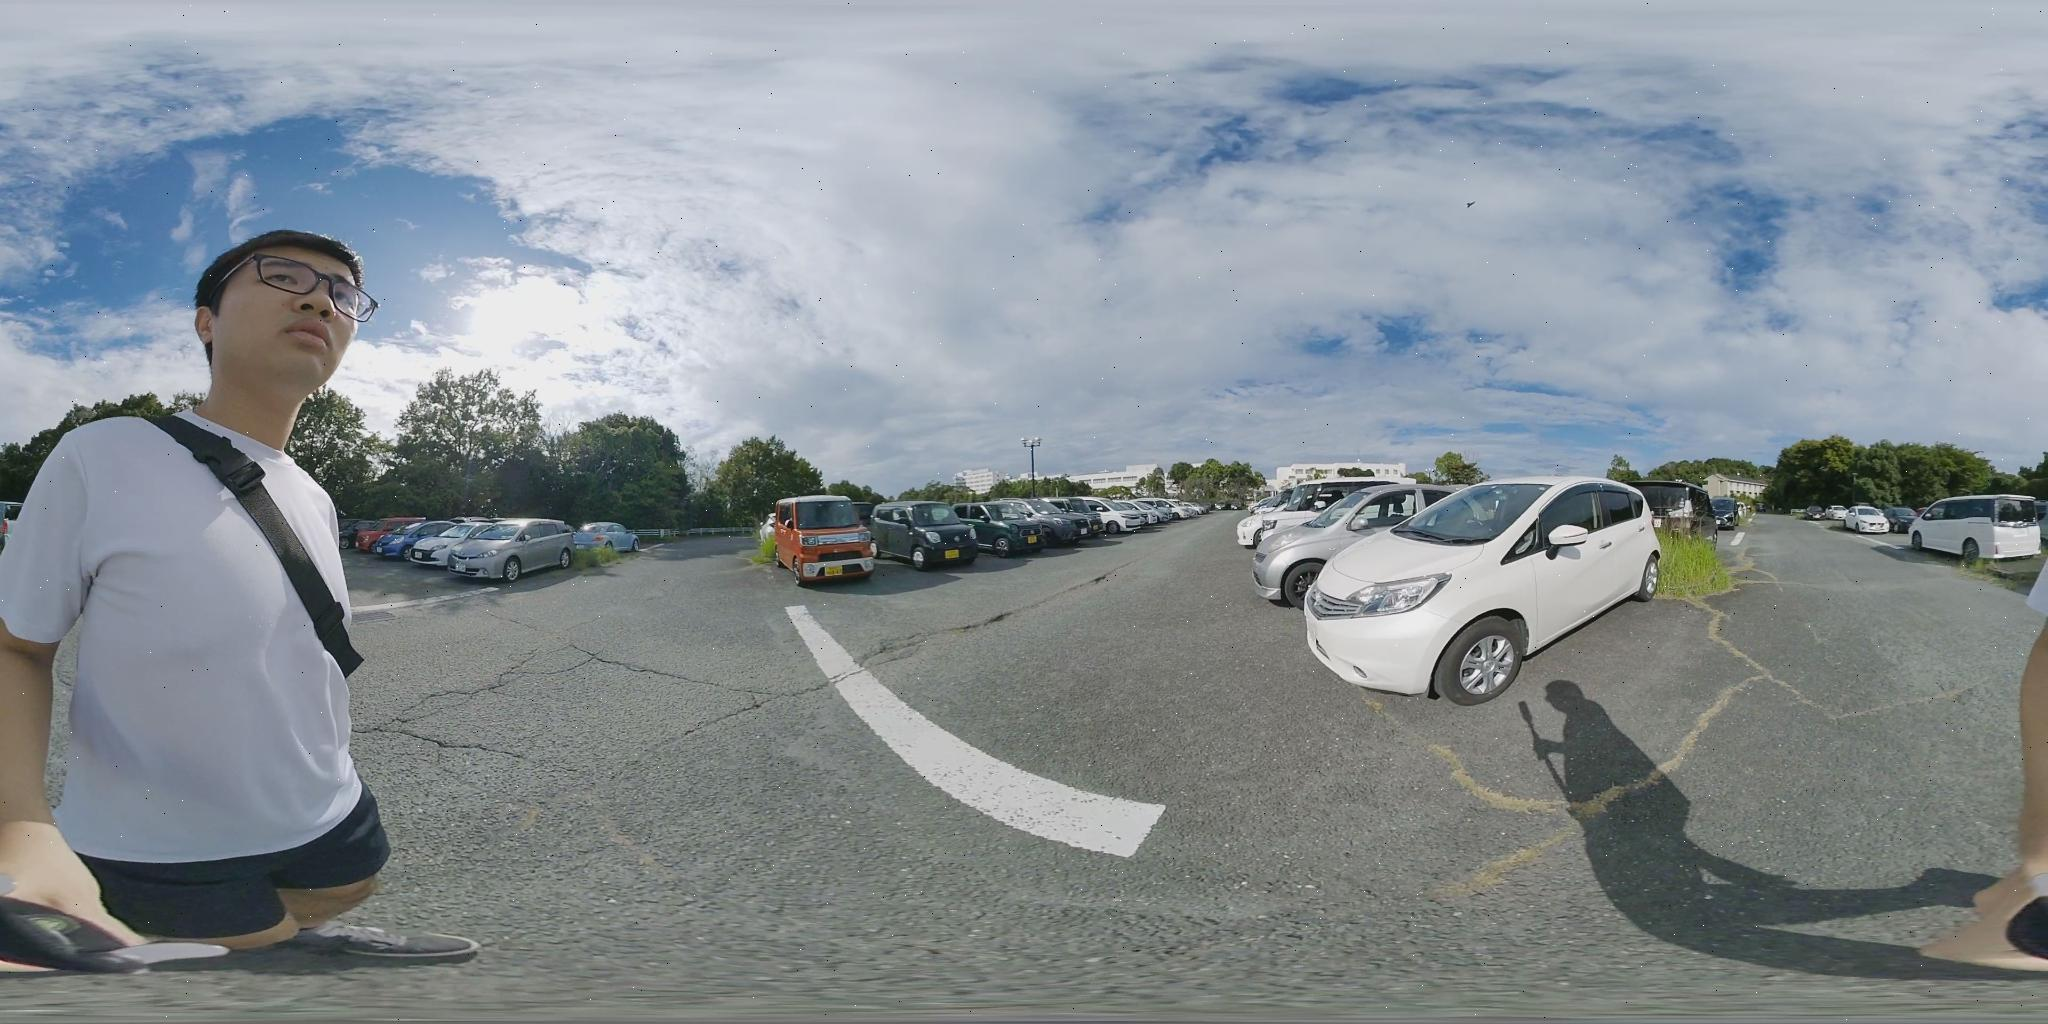car: (1298, 478, 1668, 707), (1249, 486, 1454, 606), (867, 503, 1011, 569), (1908, 494, 2044, 560), (775, 496, 874, 585), (432, 520, 576, 579), (978, 504, 1088, 552), (1014, 499, 1104, 542), (375, 520, 458, 560), (573, 520, 644, 556), (1080, 500, 1149, 532), (1132, 500, 1206, 525), (1849, 507, 1891, 529), (1166, 502, 1212, 519)
